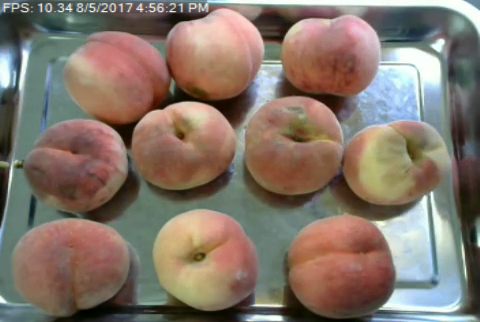Peach: (16, 216, 132, 314), (287, 214, 395, 319), (153, 210, 257, 311), (24, 118, 129, 213), (65, 29, 168, 125), (243, 95, 341, 194), (165, 6, 265, 102), (130, 99, 235, 190), (343, 120, 449, 206), (280, 14, 379, 99)
